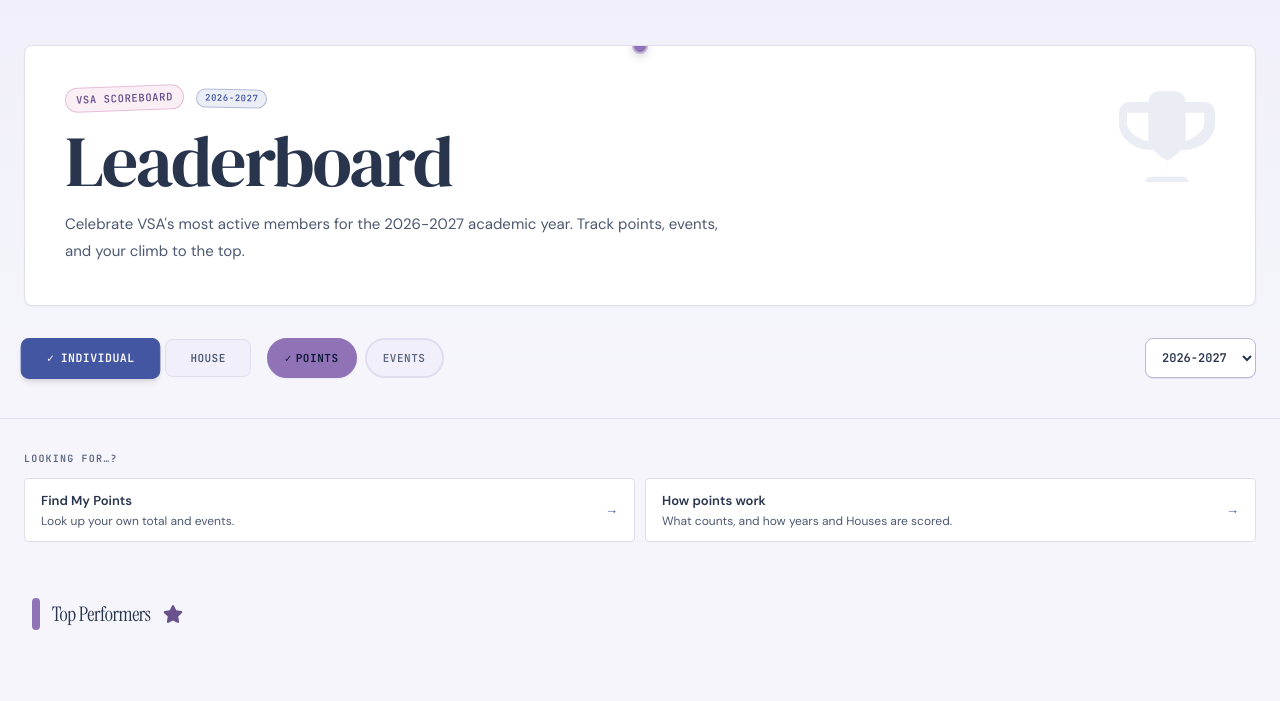
Test: rank 4+ modal House and role navigation (#627) › dates the All-Time House label and never pretends archived leadership is current
Select "ALL-TIME" in the dropdown named "Select academic year". click: (1200, 358)
box: [1145,338,1256,378]
(page scrolled)
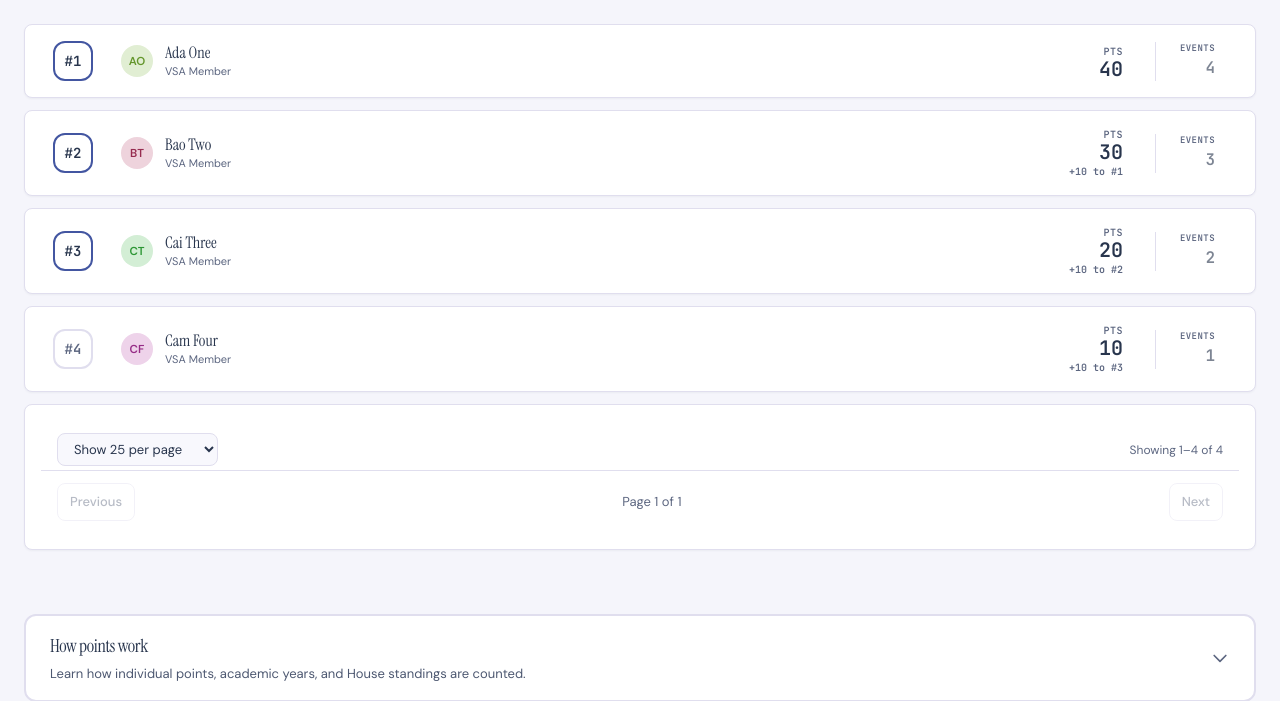
Click the button with aria-label "Open profile for Cam Four". click: (191, 341)
box: [165,331,218,351]
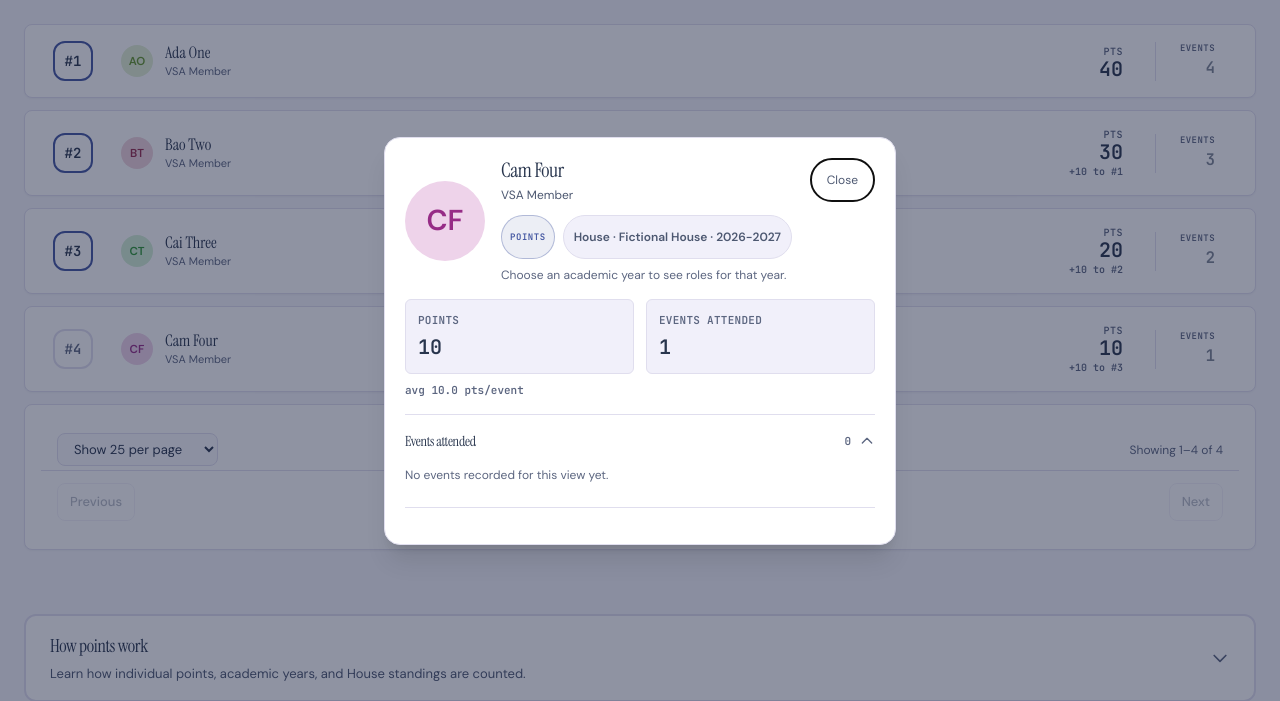
Check: the link "House · Fictional House · 2026-2027" is shown, box [563,215,792,259]
Check: the text "Choose an academic year to see roles for that year." is shown, box [501,267,792,283]
